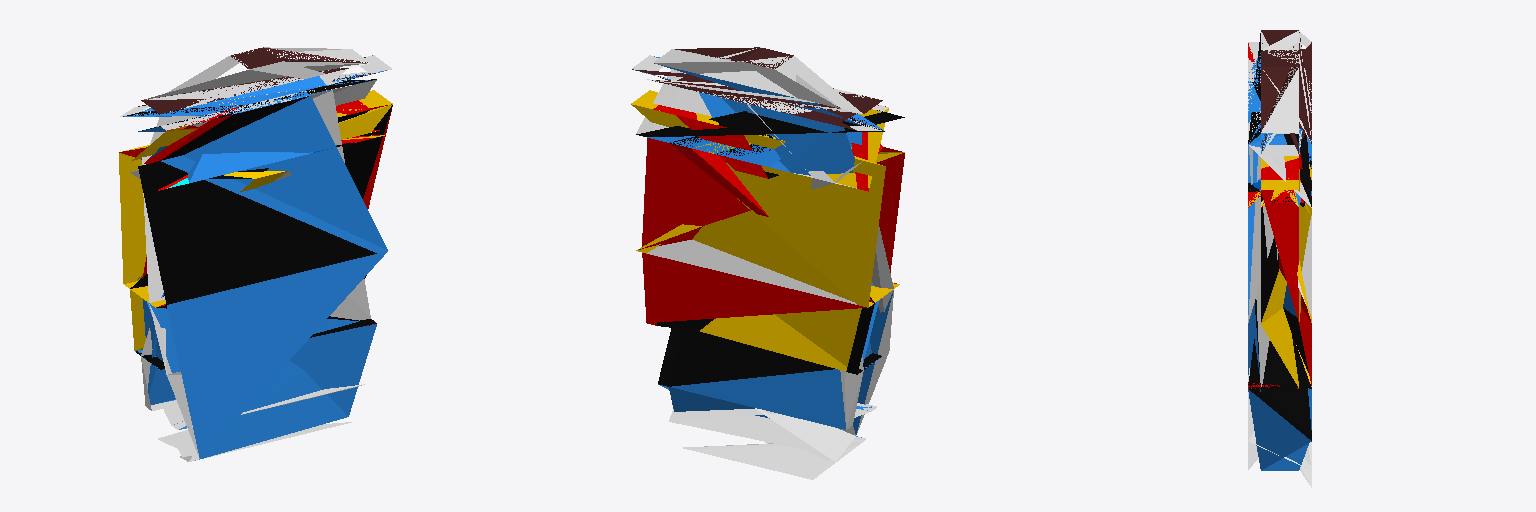
3 views of the same model, side by side, from view 1: azimuth 30°, elevation 25°; view 2: azimuth 150°, elevation 25°; view 3: azimuth 270°, elevation 25° (orthographic).
Size of the model in its own units: 46 by 68 by 10.
1 materials, 1 textured.